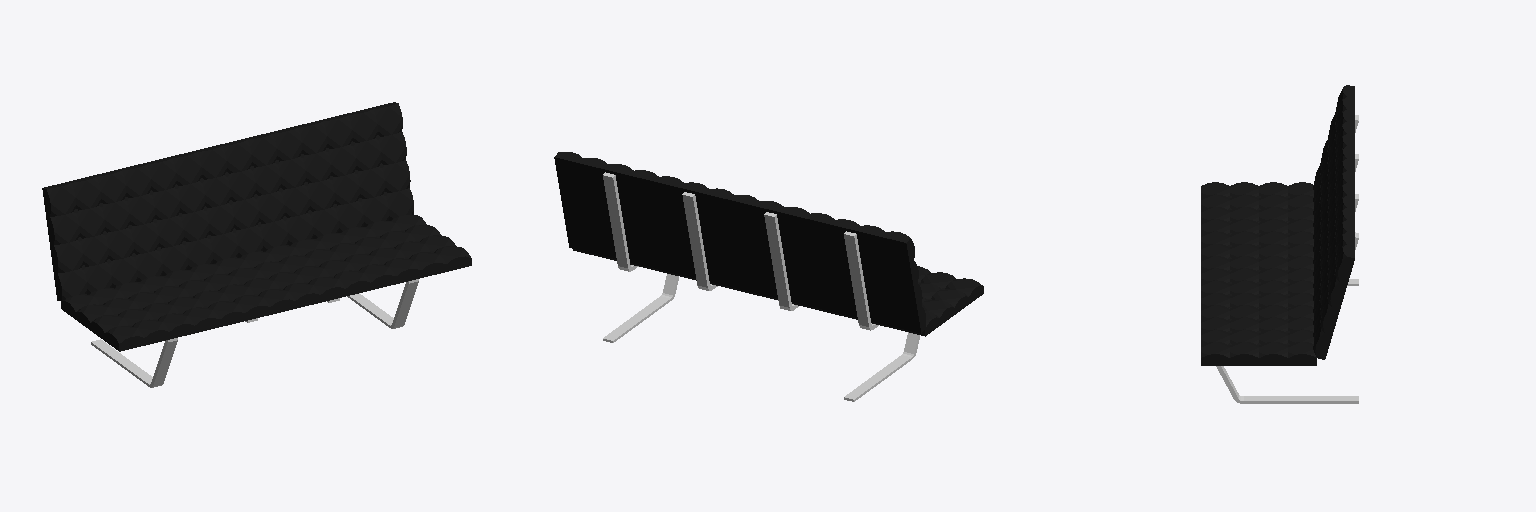
3 renders of one model, left to right at view 1: azimuth 30°, elevation 25°; view 2: azimuth 150°, elevation 25°; view 3: azimuth 270°, elevation 25°, orthographic.
Visible parts, largest first — view 1: Mesh50_Couch_Cushioning1_Tufted_Couch_Half1_Model, Mesh153_Couch_Cushioning3_Tufted_Couch_Half2_Model, Mesh103_Couch_Back_Brace3_Tufted_Couch_Half1_Model, Mesh100_Couch_Cushioning2_Tufted_Couch_Half1_Model, Mesh206_Couch_Back_Brace6_Tufted_Couch_Half2_Model, Mesh78_Cushion48_Couch_Cushioning2_Tufted_Couch_Half1_Model, Mesh70_Cushion44_Couch_Cushioning2_Tufted_Couch_Half1_Model, Mesh60_Cushion36_Couch_Cushioning2_Tufted_Couch_Half1_Model, Mesh62_Cushion38_Couch_Cushioning2_Tufted_Couch_Half1_Model, Mesh166_Cushion95_Couch_Cushioning4_Tufted_Couch_Half2_Model, Mesh61_Cushion37_Couch_Cushioning2_Tufted_Couch_Half1_Model, Mesh183_Cushion106_Couch_Cushioning4_Tufted_Couch_Half2_Model (+28 smaller); view 2: Mesh100_Couch_Cushioning2_Tufted_Couch_Half1_Model, Mesh203_Couch_Cushioning4_Tufted_Couch_Half2_Model, Mesh205_Couch_Back_Brace5_Tufted_Couch_Half2_Model, Mesh204_Couch_Back_Brace4_Tufted_Couch_Half2_Model, Mesh101_Couch_Back_Brace1_Tufted_Couch_Half1_Model, Mesh102_Couch_Back_Brace2_Tufted_Couch_Half1_Model, Mesh206_Couch_Back_Brace6_Tufted_Couch_Half2_Model, Mesh103_Couch_Back_Brace3_Tufted_Couch_Half1_Model, Mesh50_Couch_Cushioning1_Tufted_Couch_Half1_Model; view 3: Mesh203_Couch_Cushioning4_Tufted_Couch_Half2_Model, Mesh206_Couch_Back_Brace6_Tufted_Couch_Half2_Model, Mesh153_Couch_Cushioning3_Tufted_Couch_Half2_Model, Mesh100_Couch_Cushioning2_Tufted_Couch_Half1_Model.
Boxes of the visible parts, x1=… form: Mesh50_Couch_Cushioning1_Tufted_Couch_Half1_Model: x1=61, y1=299, x2=295, y2=351; Mesh153_Couch_Cushioning3_Tufted_Couch_Half2_Model: x1=296, y1=256, x2=471, y2=308; Mesh103_Couch_Back_Brace3_Tufted_Couch_Half1_Model: x1=91, y1=339, x2=177, y2=387; Mesh100_Couch_Cushioning2_Tufted_Couch_Half1_Model: x1=42, y1=145, x2=220, y2=300; Mesh206_Couch_Back_Brace6_Tufted_Couch_Half2_Model: x1=347, y1=281, x2=418, y2=328; Mesh78_Cushion48_Couch_Cushioning2_Tufted_Couch_Half1_Model: x1=47, y1=183, x2=75, y2=216; Mesh70_Cushion44_Couch_Cushioning2_Tufted_Couch_Half1_Model: x1=147, y1=159, x2=176, y2=191; Mesh60_Cushion36_Couch_Cushioning2_Tufted_Couch_Half1_Model: x1=50, y1=212, x2=79, y2=244; Mesh62_Cushion38_Couch_Cushioning2_Tufted_Couch_Half1_Model: x1=54, y1=240, x2=83, y2=272; Mesh166_Cushion95_Couch_Cushioning4_Tufted_Couch_Half2_Model: x1=323, y1=116, x2=352, y2=148; Mesh61_Cushion37_Couch_Cushioning2_Tufted_Couch_Half1_Model: x1=172, y1=153, x2=201, y2=185; Mesh183_Cushion106_Couch_Cushioning4_Tufted_Couch_Half2_Model: x1=298, y1=122, x2=327, y2=154; Mesh100_Couch_Cushioning2_Tufted_Couch_Half1_Model: x1=730, y1=195, x2=925, y2=333; Mesh203_Couch_Cushioning4_Tufted_Couch_Half2_Model: x1=554, y1=152, x2=744, y2=290; Mesh205_Couch_Back_Brace5_Tufted_Couch_Half2_Model: x1=682, y1=192, x2=717, y2=290; Mesh204_Couch_Back_Brace4_Tufted_Couch_Half2_Model: x1=603, y1=172, x2=638, y2=271; Mesh101_Couch_Back_Brace1_Tufted_Couch_Half1_Model: x1=844, y1=231, x2=878, y2=330; Mesh102_Couch_Back_Brace2_Tufted_Couch_Half1_Model: x1=764, y1=212, x2=798, y2=310; Mesh206_Couch_Back_Brace6_Tufted_Couch_Half2_Model: x1=603, y1=274, x2=678, y2=342; Mesh103_Couch_Back_Brace3_Tufted_Couch_Half1_Model: x1=844, y1=332, x2=919, y2=401; Mesh50_Couch_Cushioning1_Tufted_Couch_Half1_Model: x1=749, y1=286, x2=983, y2=336; Mesh203_Couch_Cushioning4_Tufted_Couch_Half2_Model: x1=1315, y1=171, x2=1354, y2=359; Mesh206_Couch_Back_Brace6_Tufted_Couch_Half2_Model: x1=1216, y1=366, x2=1358, y2=403; Mesh153_Couch_Cushioning3_Tufted_Couch_Half2_Model: x1=1201, y1=354, x2=1316, y2=365; Mesh100_Couch_Cushioning2_Tufted_Couch_Half1_Model: x1=1342, y1=85, x2=1354, y2=171.
Size of the model in its own units: 35 by 16.44 by 13.61.